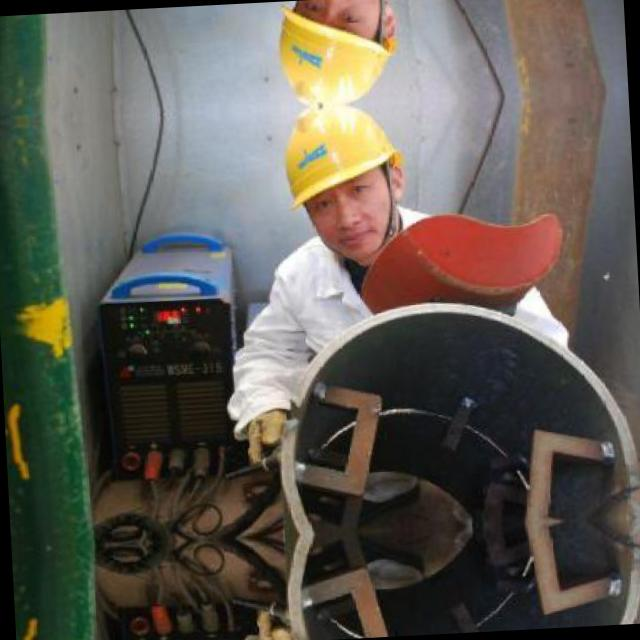helmet: (264, 102, 424, 273), (257, 0, 416, 108)
